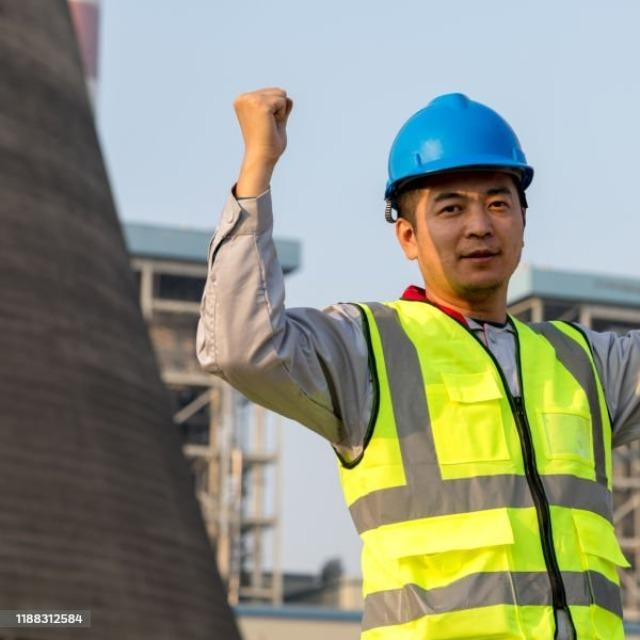Con_Casco: (382, 91, 536, 292)
Con_Chaleco: (328, 295, 636, 640)
